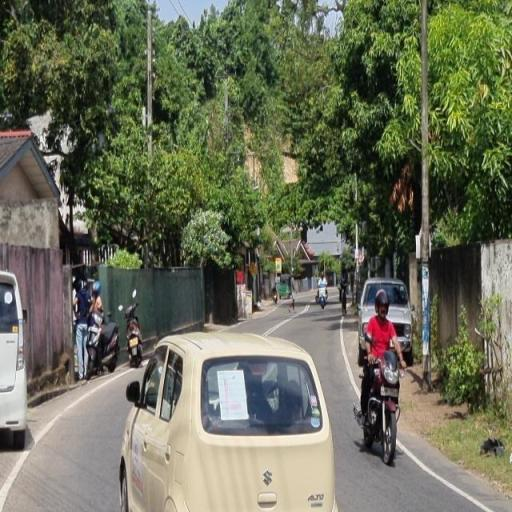double_white_line: (398, 439, 492, 512)
